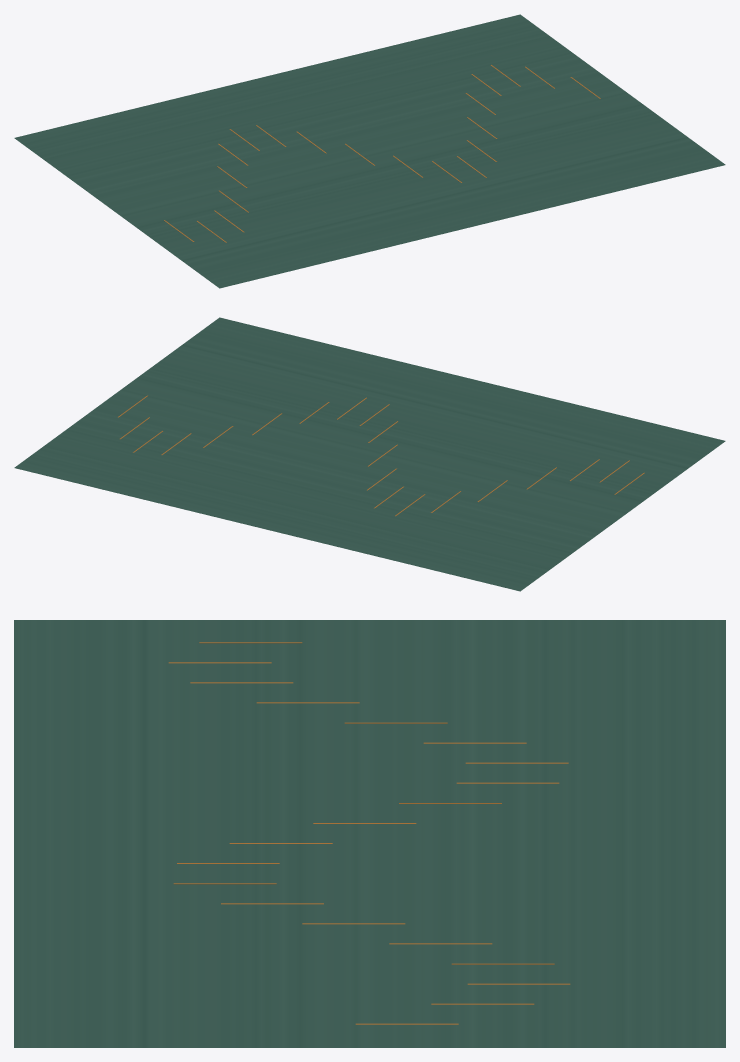
Rendered from 249_L118_L12_LayerReference.obj.
3 renders of one model, top to bottom at view 1: azimuth 30°, elevation 25°; view 2: azimuth 150°, elevation 25°; view 3: azimuth 270°, elevation 25°, orthographic. The views are drawn at different scales.
Visible parts, largest first — view 1: 249_L118_L12_LayerReference; view 2: 249_L118_L12_LayerReference; view 3: 249_L118_L12_LayerReference.
Part boxes in pixels (x1=…): 249_L118_L12_LayerReference: x1=14, y1=14, x2=725, y2=288; 249_L118_L12_LayerReference: x1=14, y1=317, x2=725, y2=591; 249_L118_L12_LayerReference: x1=14, y1=620, x2=725, y2=1047.
Bounding box in the file's own units: 0.472 × 0.000509 × 0.332.
Materials: 2 (2 with a texture image).
